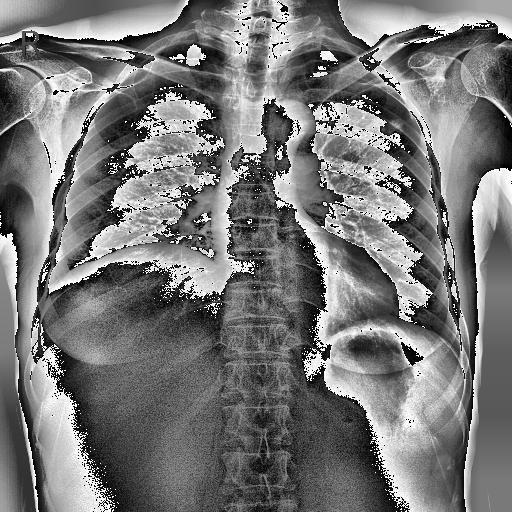0- Aortic enlargement: (262, 100, 318, 157)
13- Pulmonary fibrosis: (380, 116, 404, 136), (380, 119, 404, 134), (410, 112, 414, 122)
2- Calcification: (380, 116, 404, 136), (382, 117, 402, 137)
9- Other lesion: (40, 244, 222, 354), (40, 246, 228, 290)
